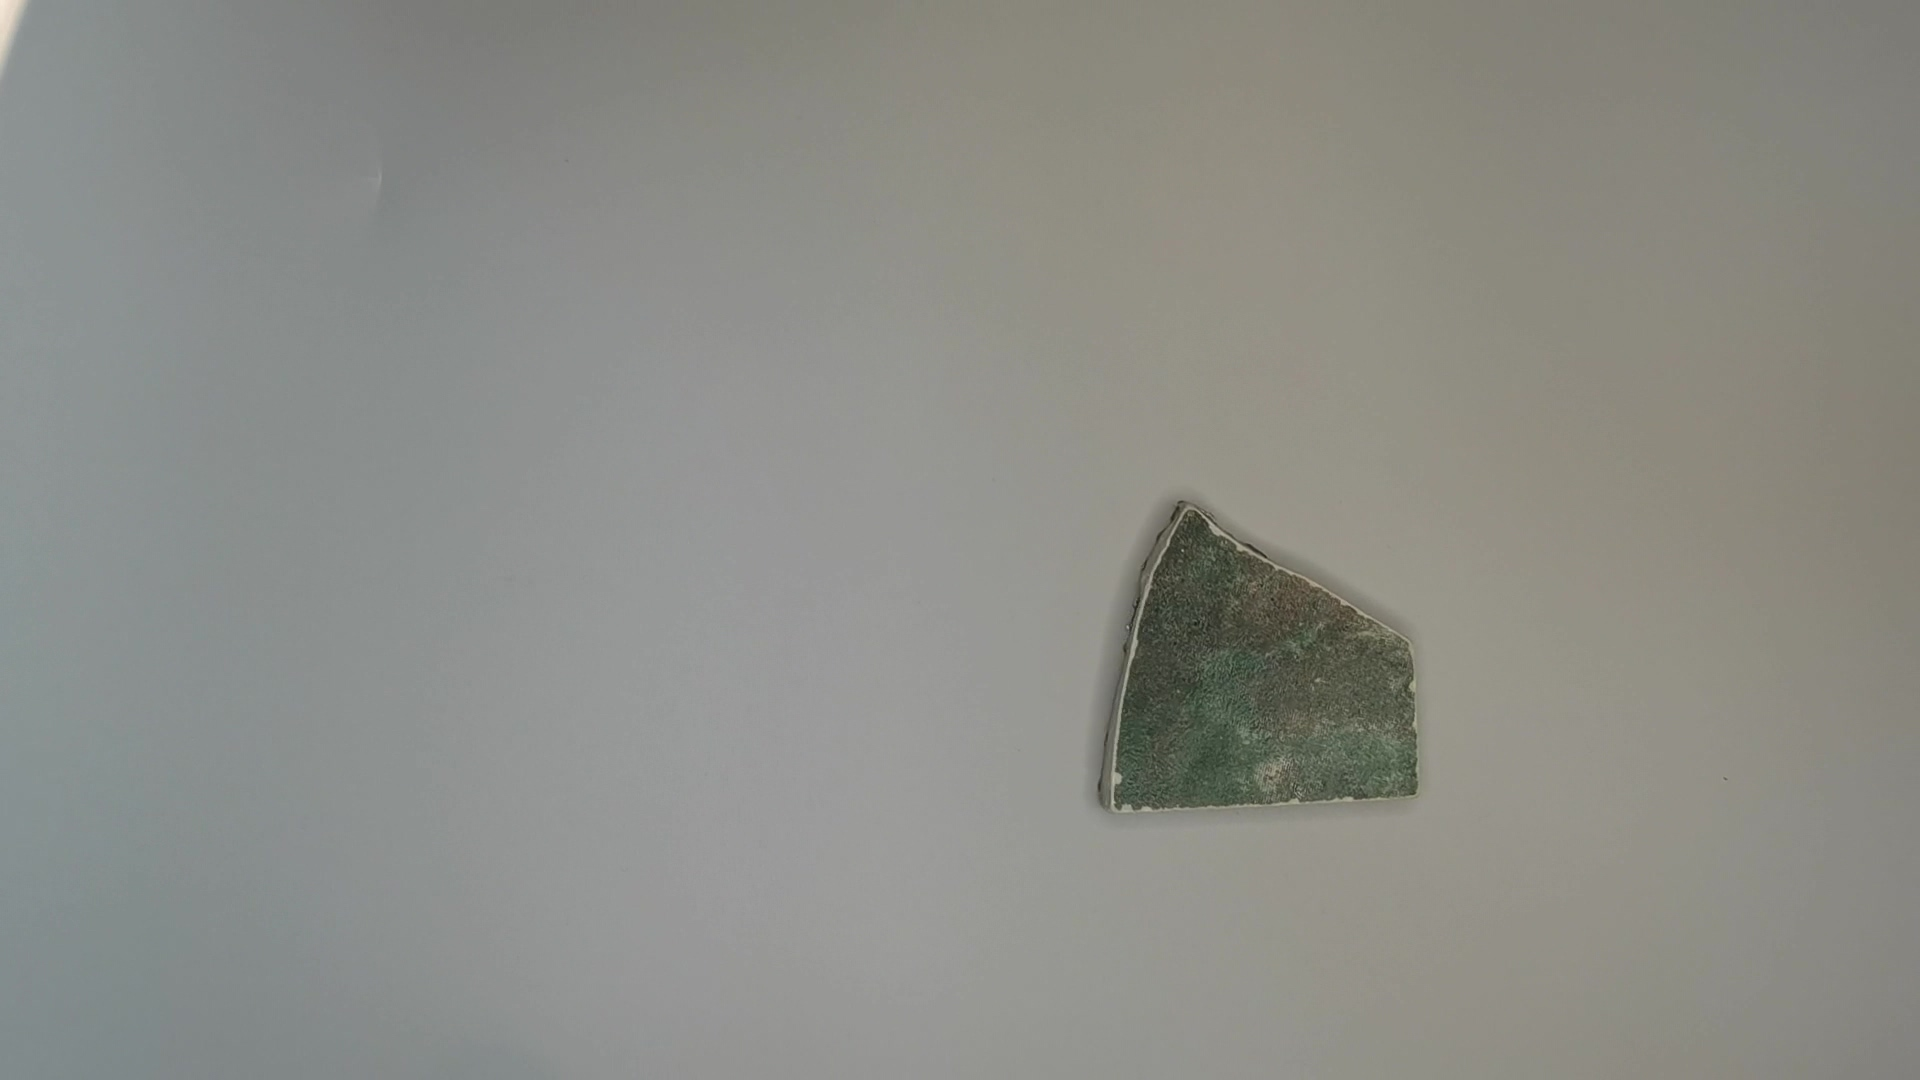ceramic: (1095, 497, 1425, 820)
